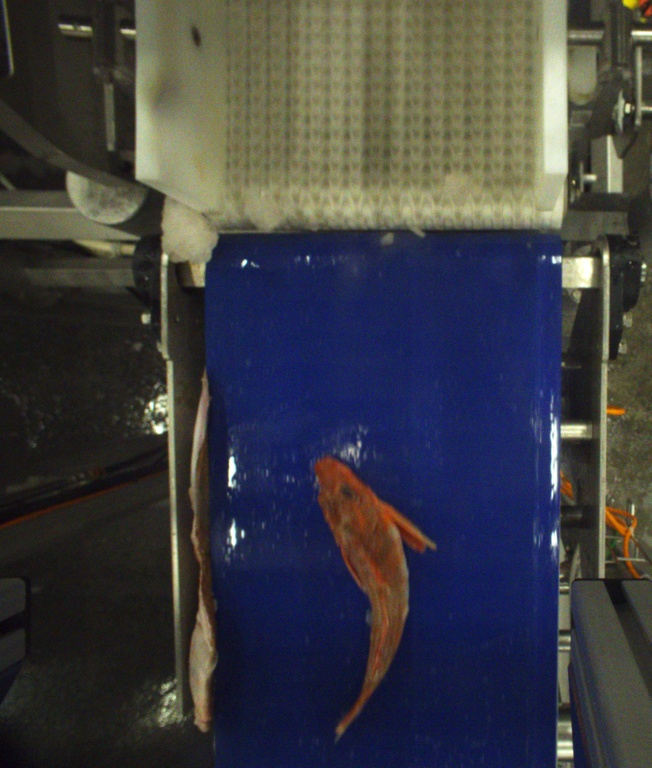GUU: (312, 453, 436, 746)
